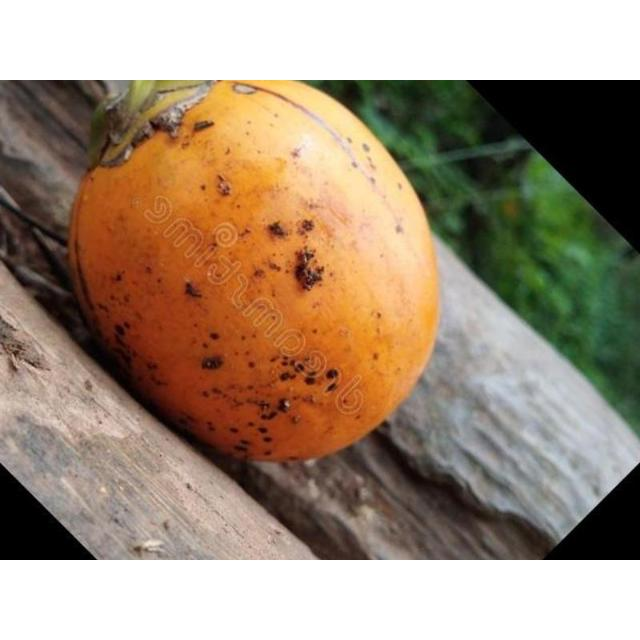good: (65, 80, 442, 465)
